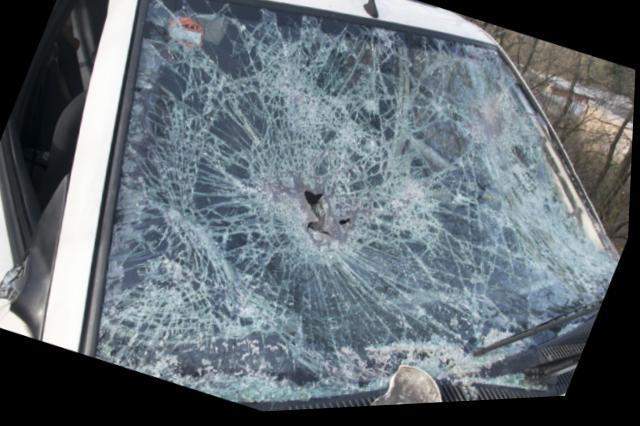glass shatter: (98, 0, 620, 406)
